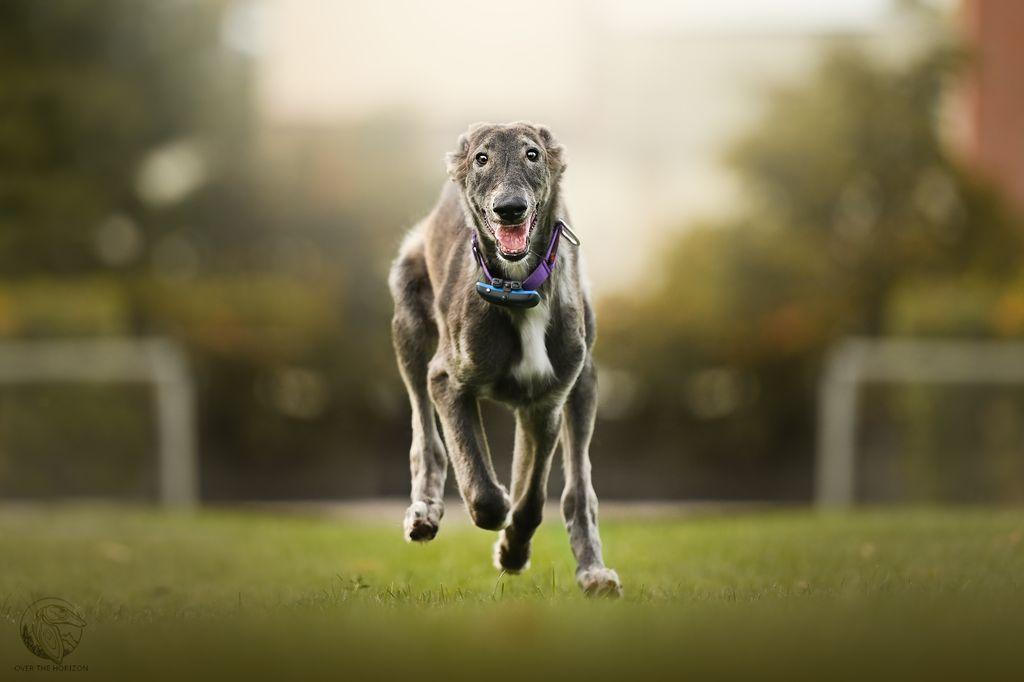borzoi: (387, 117, 641, 602)
